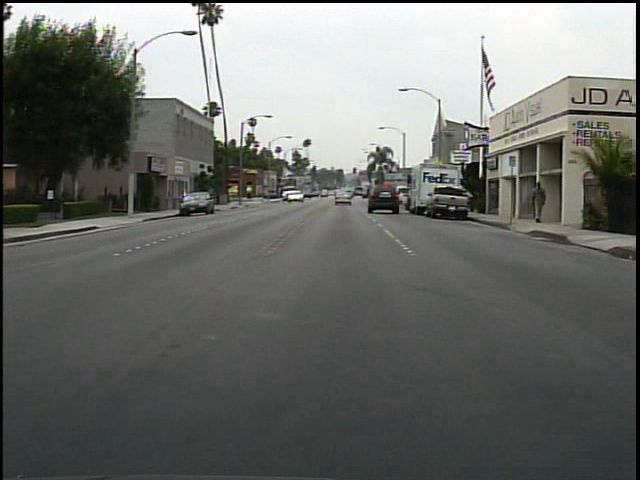person: (527, 179, 550, 228)
